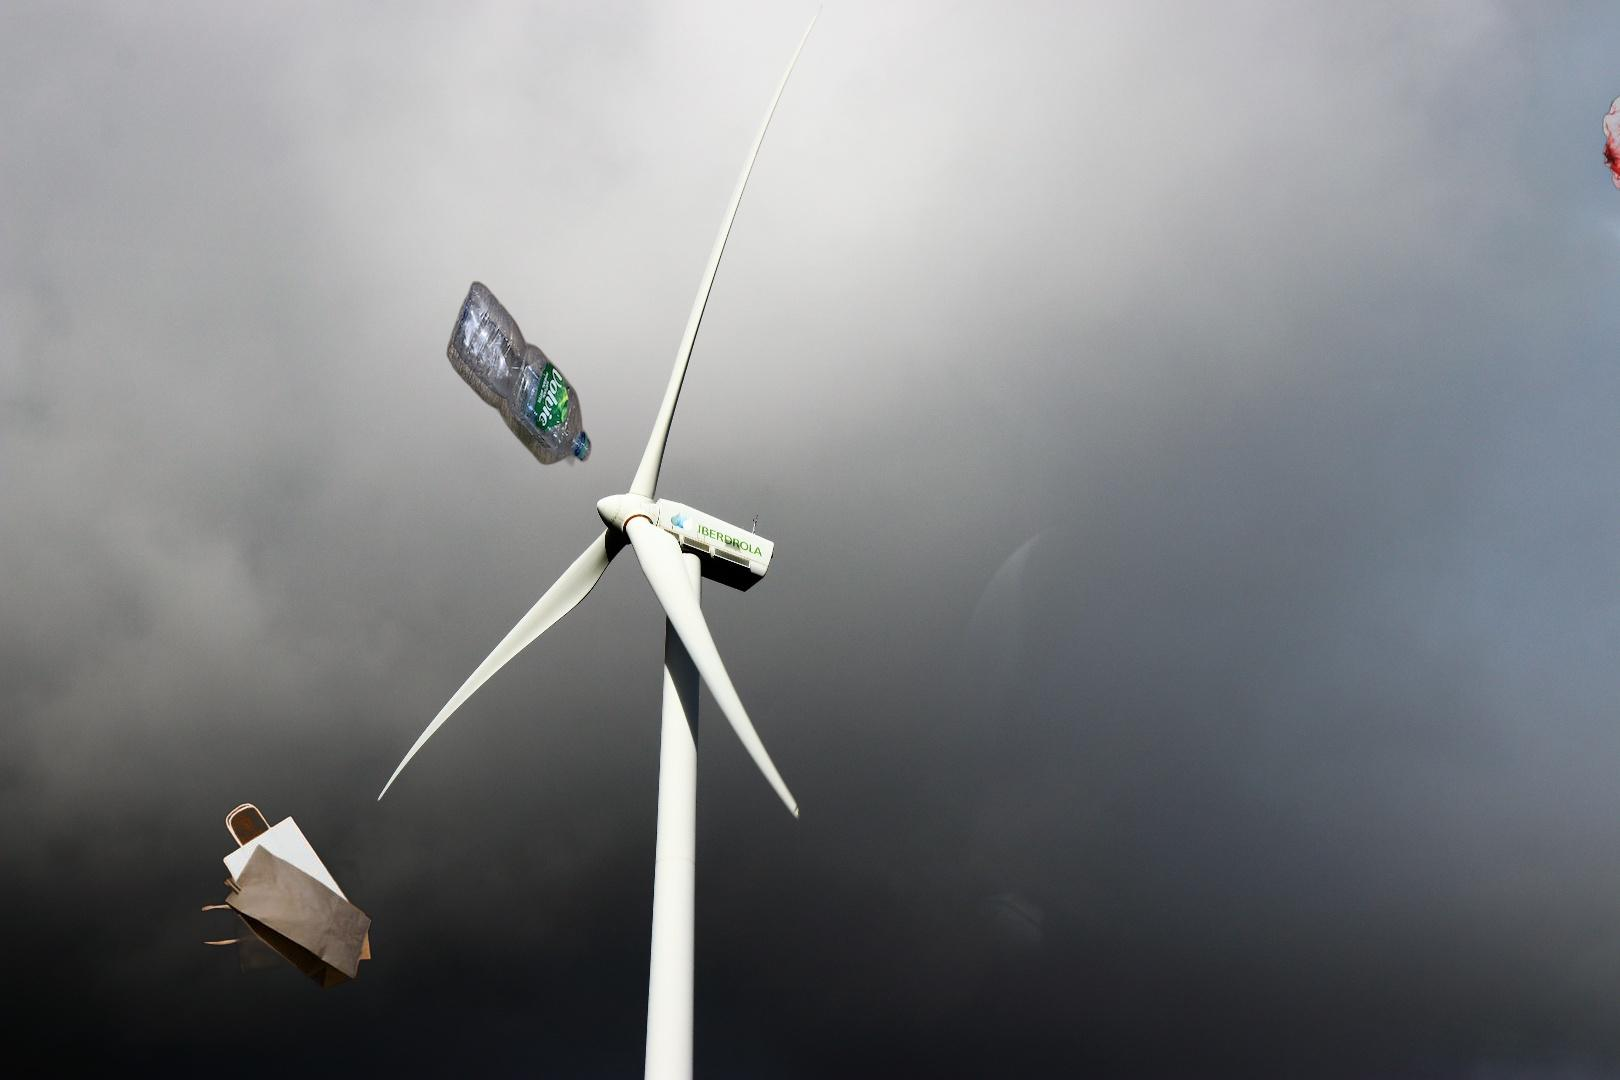paper-bag: (135, 800, 374, 1061)
plastic-bag: (1600, 66, 1620, 266)
plastic-bottles: (445, 278, 594, 470)
